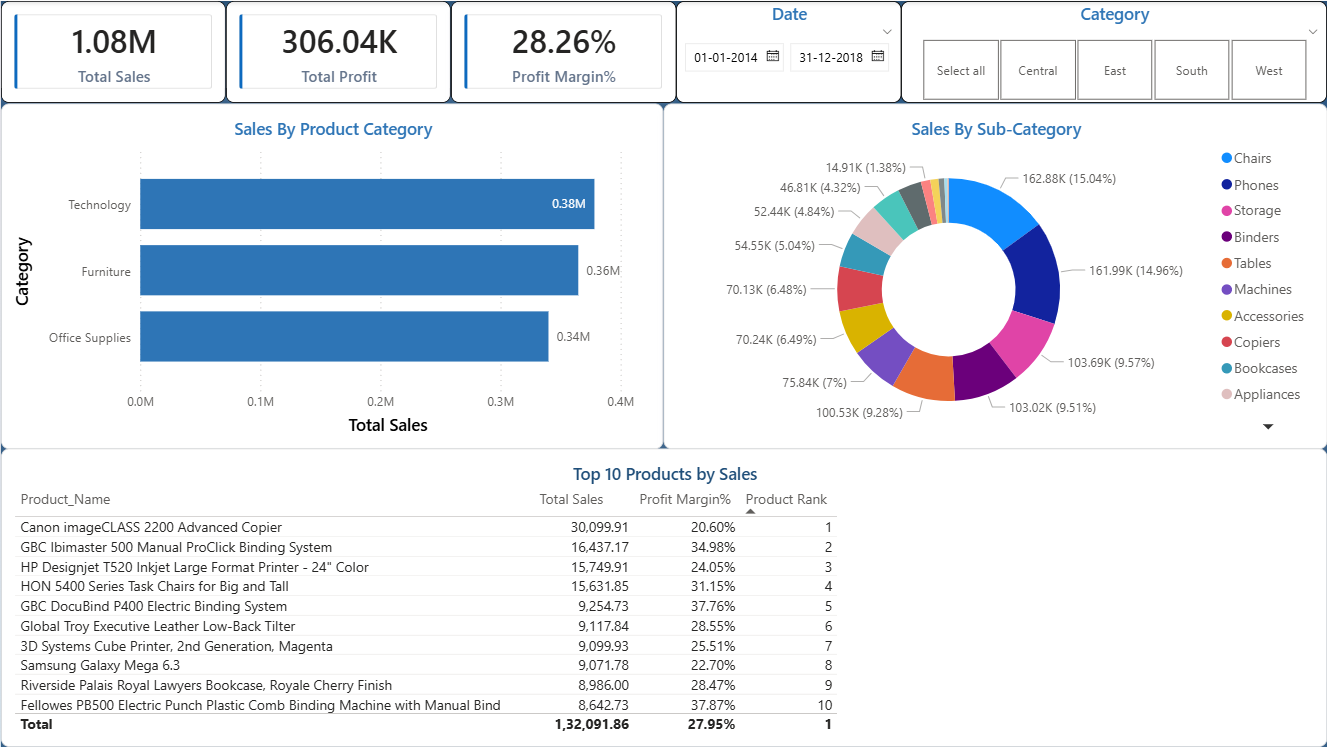

The dashboard page shown, as its layout file describes it:
{"tool":"powerbi","page":{"name":"Product Performance","canvas":[1280,720],"ordinal":2},"visuals":[{"type":"cardVisual","fields":{"Data":["_Measures.Total Sales"]},"box":[0,0,217,98.8],"z":0},{"type":"cardVisual","fields":{"Data":["_Measures.Total Profit"]},"box":[217.3,0,217,98.8],"z":1000},{"type":"cardVisual","fields":{"Data":["_Measures.Profit Margin%"]},"box":[434.6,0,217.3,98.8],"z":2000},{"type":"slicer","title":"Date","fields":{"Values":["Date_Table.Date"]},"box":[651.9,0,217.3,98.8],"z":3000},{"type":"slicer","title":"Category","fields":{"Values":["Customers.Region"]},"box":[869.1,0,411.1,98.8],"z":4000},{"type":"clusteredBarChart","title":"Sales By Product Category","fields":{"Y":["_Measures.Total Sales"],"Category":["Products.Category Hierarchy.Category","Products.Category Hierarchy.Sub_Category"]},"box":[0,98.8,639.5,333.3],"z":5000},{"type":"donutChart","title":"Sales By Sub-Category","fields":{"Category":["Products.Category Hierarchy.Sub_Category"],"Y":["_Measures.Total Sales"]},"box":[639.5,98.8,640.7,333.3],"z":6000},{"type":"tableEx","title":"Top 10 Products by Sales","fields":{"Values":["Products.Product_Name","_Measures.Total Sales","_Measures.Profit Margin%","_Measures.Product Rank"]},"box":[0,432.1,1280.2,287.7],"z":7000}]}

Visuals, with their boxes in screenshot pixels (x1, y1, x2, y2), scaled from the page's 1280x720 canvas onto the 1327x747 screenshot:
cardVisual - _Measures.Total Sales: <region>0, 0, 225, 103</region>
cardVisual - _Measures.Total Profit: <region>225, 0, 450, 103</region>
cardVisual - _Measures.Profit Margin%: <region>451, 0, 676, 103</region>
"Date" slicer: <region>676, 0, 901, 103</region>
"Category" slicer: <region>901, 0, 1326, 103</region>
"Sales By Product Category" clusteredBarChart: <region>0, 103, 663, 448</region>
"Sales By Sub-Category" donutChart: <region>663, 103, 1326, 448</region>
"Top 10 Products by Sales" tableEx: <region>0, 448, 1326, 746</region>
